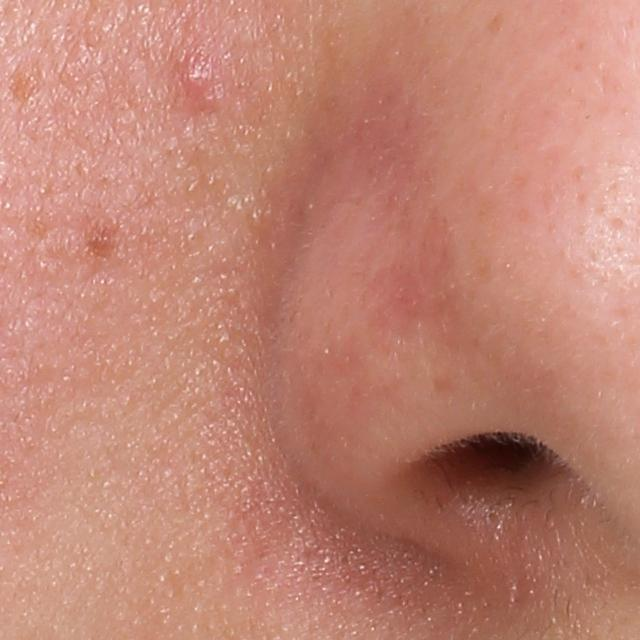papule: (173, 51, 227, 108)
